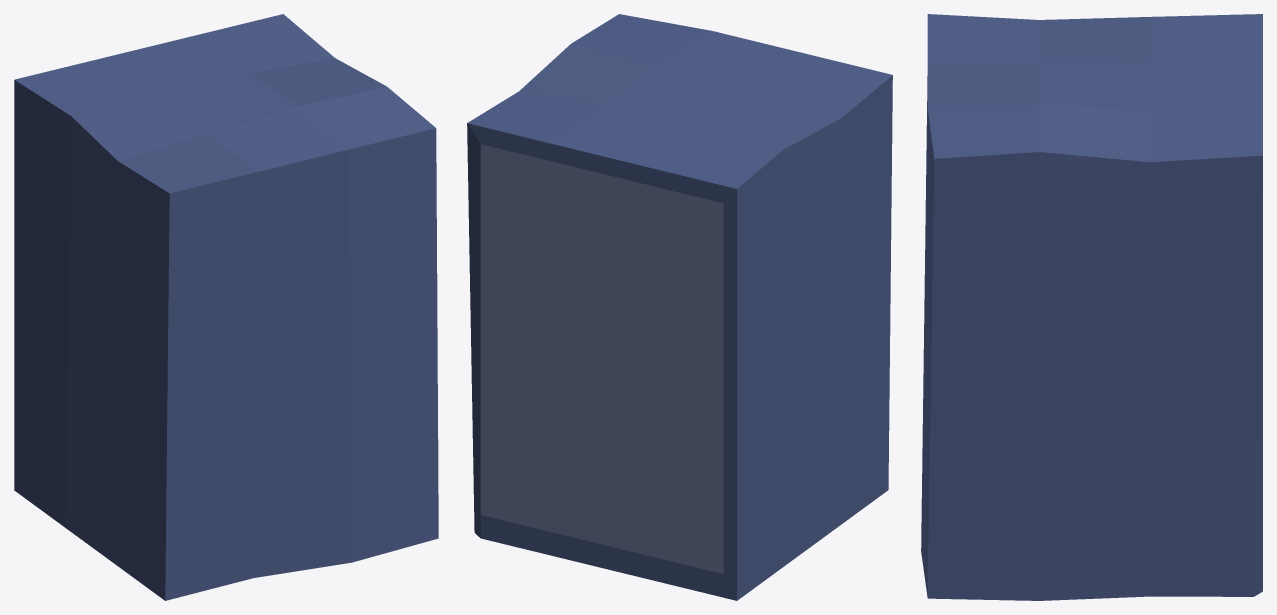
File: SafeBoxGameOff2024.fbx
3 renders of one model, left to right at view 1: azimuth 30°, elevation 25°; view 2: azimuth 150°, elevation 25°; view 3: azimuth 270°, elevation 25°, orthographic. The views are drawn at different scales.
Parts seen in each view (by area): view 1: Cube; view 2: Cube, Cube.002; view 3: Cube.
Boxes of the visible parts, x1,y1,x2,y2 form: Cube: (14, 14, 438, 600); Cube: (467, 14, 892, 600); Cube.002: (480, 144, 723, 573); Cube: (921, 14, 1262, 600).
Size of the model in its own units: 1.22 by 1.22 by 1.77.
